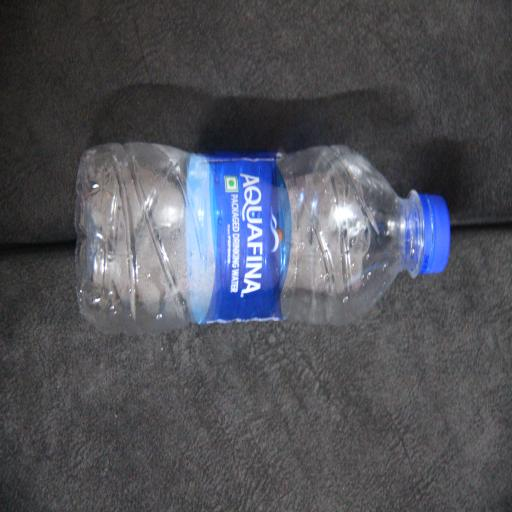Aquafina: (82, 65, 242, 512)
